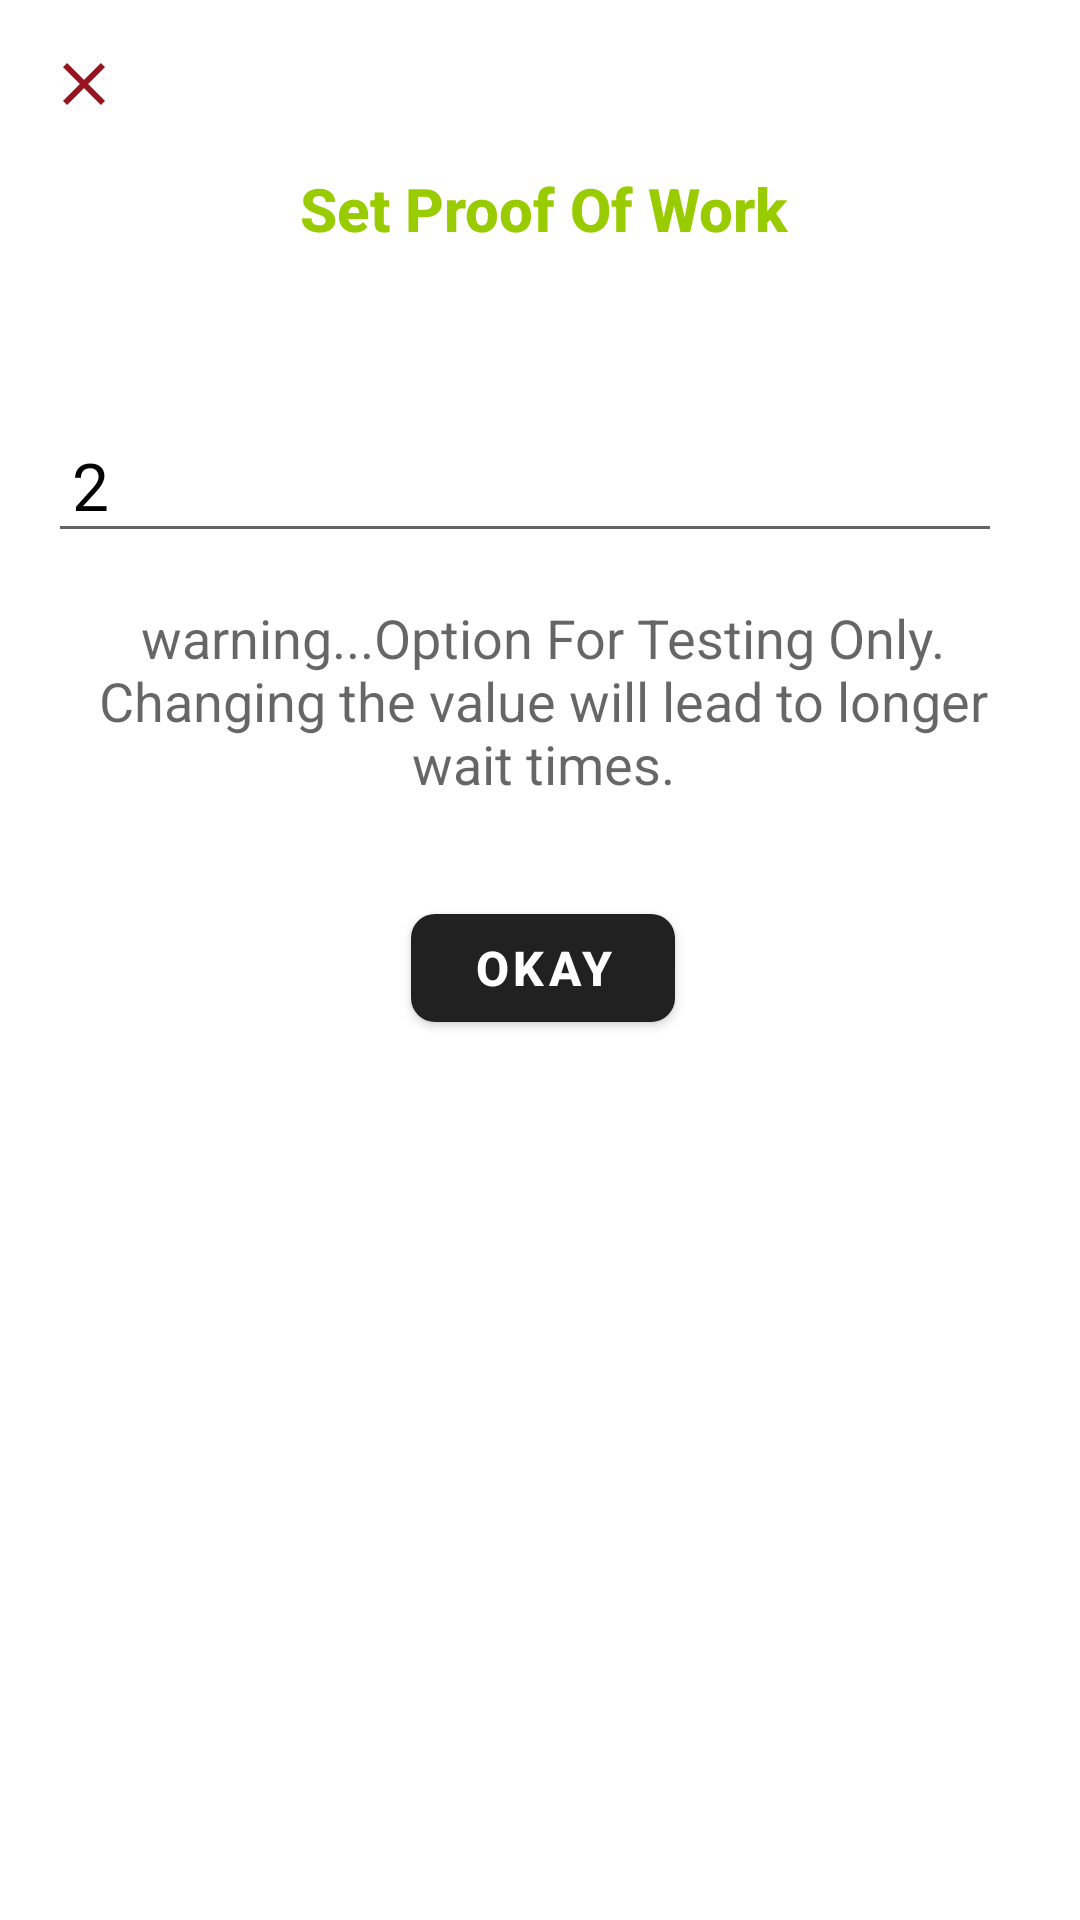

Point at icon controls on the screen. Image size 1080px×1920px, points as [x,y].
Close: [84,84]
